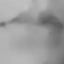MouthFatigue: (1, 5, 64, 56)
